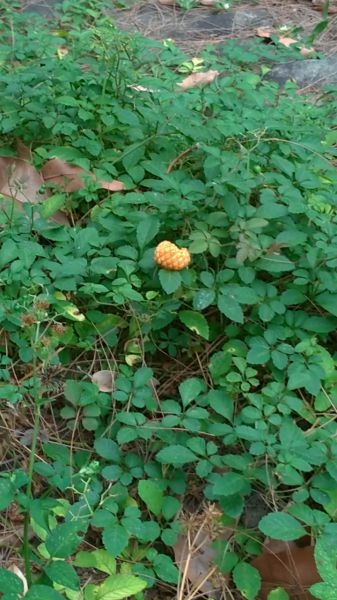eggs: (153, 237, 194, 277)
